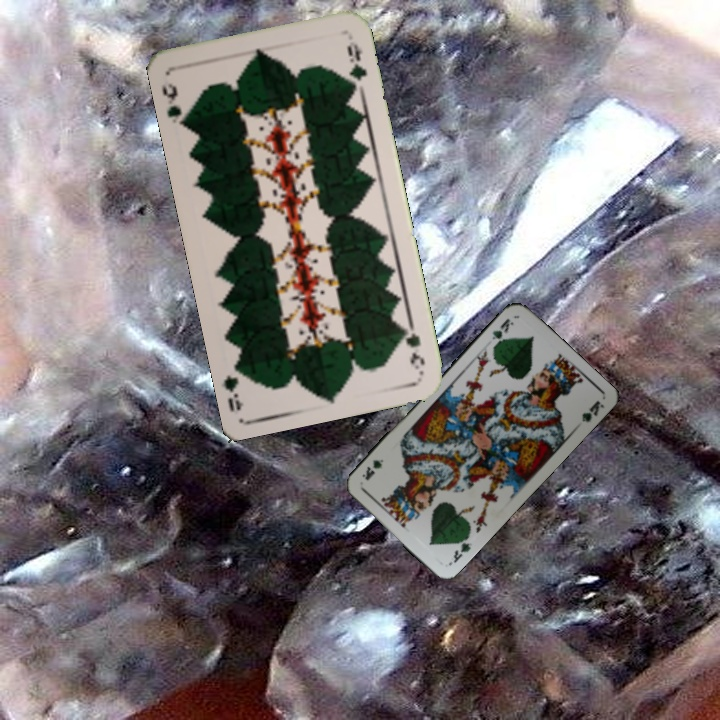G9: (158, 79, 191, 129), (398, 322, 427, 372)
GK: (488, 314, 516, 350), (449, 531, 475, 565)
